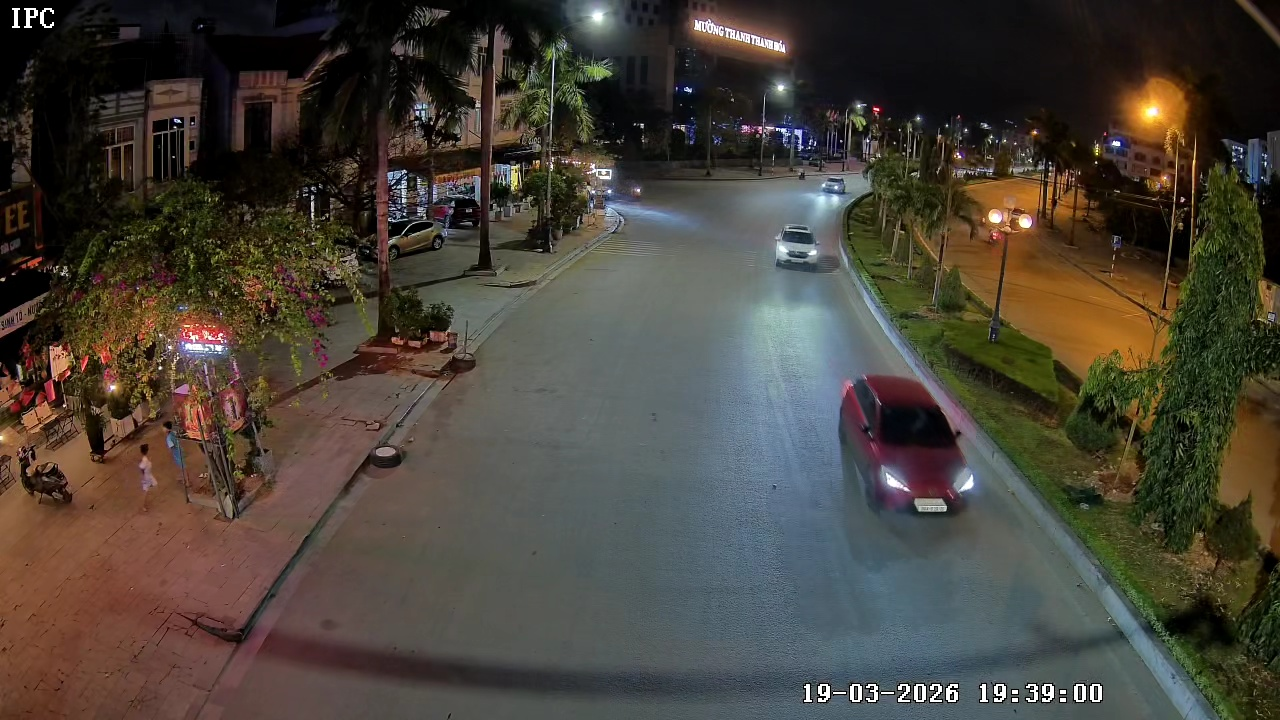car: (837, 372, 975, 514), (774, 222, 822, 271)
motorbike: (17, 443, 75, 507)
